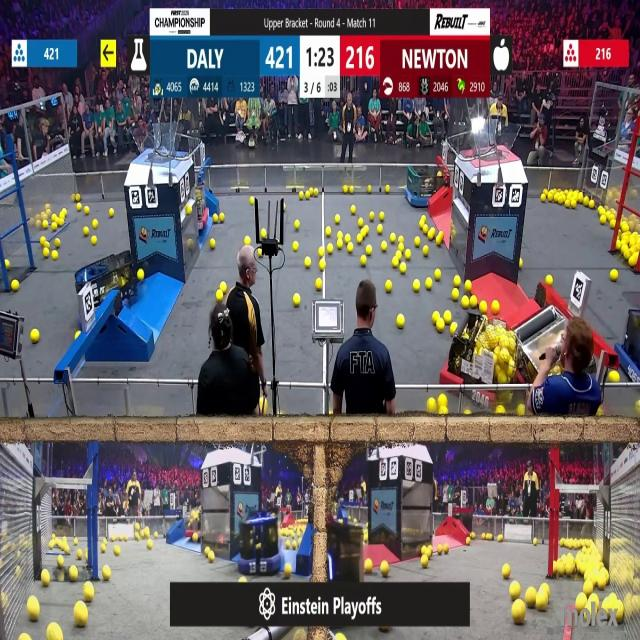ball_ground: (75, 604, 87, 628), (514, 601, 526, 624), (29, 598, 40, 621), (525, 589, 536, 608), (47, 625, 60, 640), (86, 584, 96, 603), (512, 583, 522, 601), (536, 594, 546, 612), (576, 594, 585, 611), (564, 564, 574, 578), (41, 570, 50, 585), (427, 398, 436, 412), (31, 328, 39, 342), (70, 567, 78, 581), (363, 560, 371, 574), (439, 394, 448, 406), (585, 583, 594, 595), (502, 564, 509, 579), (284, 563, 291, 578), (396, 315, 404, 328), (609, 372, 618, 383), (382, 562, 389, 576), (103, 566, 110, 580), (492, 302, 500, 314), (452, 288, 460, 300), (461, 296, 469, 308), (481, 302, 488, 315), (629, 258, 638, 268), (518, 407, 526, 418), (11, 280, 18, 292), (316, 279, 323, 291), (421, 556, 428, 568), (438, 320, 445, 332), (496, 408, 505, 417), (584, 199, 592, 209), (386, 280, 392, 293), (293, 293, 299, 306), (610, 271, 617, 282), (445, 312, 452, 323), (464, 280, 471, 291), (469, 295, 476, 306), (208, 552, 215, 563), (426, 278, 432, 290), (544, 276, 552, 285), (306, 256, 312, 268), (399, 264, 405, 276), (414, 280, 420, 292), (59, 556, 65, 568), (138, 270, 144, 282), (262, 228, 268, 240), (454, 277, 461, 287), (434, 270, 440, 281), (432, 312, 438, 323), (319, 261, 325, 272), (360, 255, 366, 266), (365, 245, 371, 256), (216, 290, 222, 301), (382, 242, 388, 253), (210, 240, 216, 250), (43, 248, 49, 258), (51, 250, 57, 260), (378, 223, 384, 233), (415, 237, 421, 247), (338, 240, 344, 250), (362, 224, 368, 234), (292, 240, 298, 250), (435, 236, 441, 246), (403, 250, 409, 260), (318, 247, 324, 257), (392, 257, 398, 267), (636, 402, 640, 417), (422, 224, 428, 234), (616, 240, 622, 250), (240, 575, 247, 583), (244, 237, 251, 245), (212, 214, 219, 222), (442, 408, 449, 416), (423, 246, 428, 257), (451, 322, 456, 333), (326, 245, 332, 254), (83, 226, 89, 235), (116, 548, 122, 557), (345, 235, 351, 244), (220, 282, 226, 291), (147, 539, 153, 548), (428, 232, 434, 241), (356, 237, 362, 246), (191, 533, 197, 542), (4, 262, 10, 271), (609, 219, 615, 228), (76, 551, 82, 560), (60, 573, 66, 582), (436, 545, 442, 554), (380, 212, 385, 222), (219, 212, 224, 222), (348, 243, 353, 253), (257, 248, 262, 258), (328, 226, 333, 236), (83, 551, 88, 561), (395, 251, 402, 258), (83, 207, 89, 215), (390, 235, 396, 243), (55, 240, 61, 248), (108, 209, 114, 217), (350, 206, 356, 214), (293, 220, 299, 228), (22, 634, 30, 640), (540, 193, 546, 201), (600, 216, 606, 224), (93, 220, 99, 228), (338, 232, 344, 240), (42, 220, 48, 228), (546, 192, 552, 200), (62, 210, 68, 218), (444, 543, 450, 551), (565, 201, 571, 209), (290, 540, 296, 548), (205, 546, 211, 554), (337, 634, 345, 640), (93, 237, 98, 246), (358, 218, 363, 227), (186, 206, 191, 215), (571, 200, 576, 209), (363, 533, 368, 542), (144, 528, 149, 537), (464, 411, 470, 418), (598, 208, 604, 215), (99, 546, 104, 554), (336, 215, 341, 223), (368, 212, 373, 220), (498, 534, 503, 542), (51, 222, 56, 230), (76, 204, 81, 212), (366, 185, 371, 193), (314, 188, 319, 196), (40, 238, 45, 246), (65, 545, 70, 553), (421, 216, 426, 224), (386, 184, 390, 193), (520, 258, 524, 267), (398, 237, 403, 244), (298, 191, 303, 198), (398, 243, 403, 250), (473, 535, 478, 542), (466, 536, 470, 544), (250, 198, 254, 206), (76, 192, 80, 200), (136, 523, 140, 531), (532, 538, 537, 544), (136, 534, 141, 540), (306, 191, 310, 198), (483, 533, 487, 540), (488, 533, 492, 540), (76, 330, 80, 337), (154, 532, 158, 538), (74, 538, 78, 544), (123, 534, 127, 540), (112, 535, 115, 541)
goal: (464, 121, 522, 160), (130, 128, 190, 160)
robot_blue: (72, 256, 141, 328), (232, 502, 282, 574), (620, 302, 640, 383), (404, 165, 440, 207)
robot_red: (446, 323, 518, 406), (520, 314, 566, 382), (184, 509, 201, 542)
